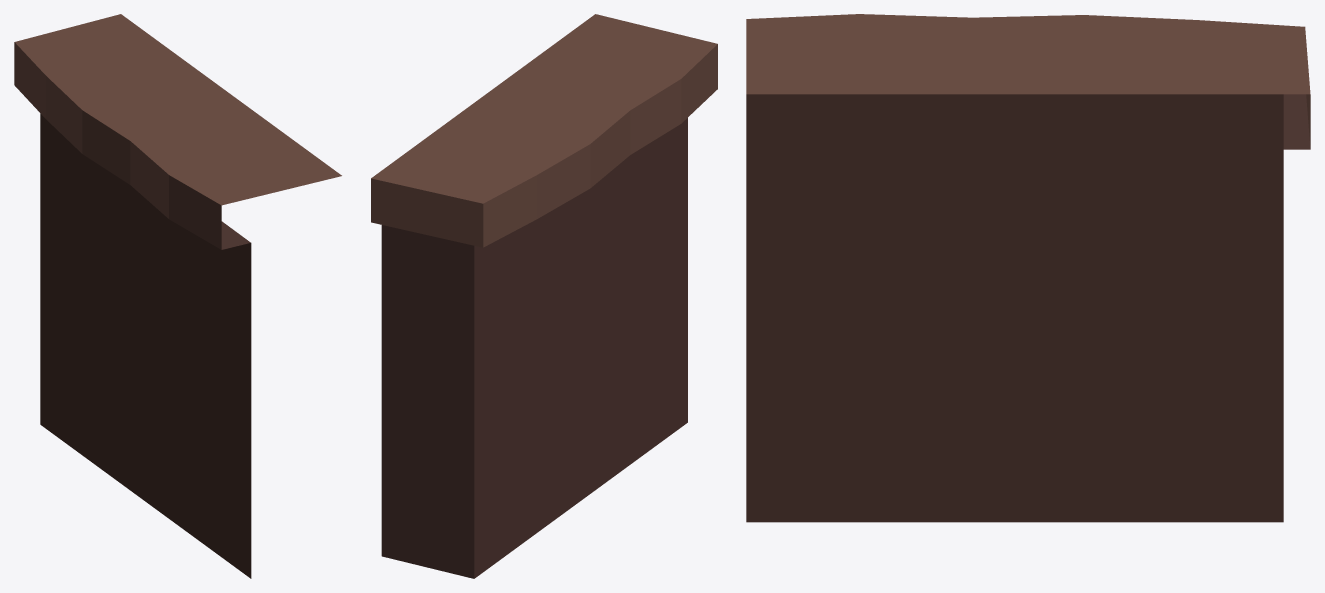
The model's file is Ground_End_2.fbx.
3 views of the same model, side by side, from view 1: azimuth 30°, elevation 25°; view 2: azimuth 150°, elevation 25°; view 3: azimuth 270°, elevation 25° (orthographic). The views are drawn at different scales.
Visible parts, largest first — view 1: Ground_End_2; view 2: Ground_End_2; view 3: Ground_End_2.
Boxes of the visible parts, box(x1,y1,x2,y2) form: Ground_End_2: box(14, 14, 341, 578); Ground_End_2: box(371, 14, 717, 578); Ground_End_2: box(746, 14, 1310, 522).
Size of the model in its own units: 70.65 by 199 by 210.
1 material, 1 textured.
